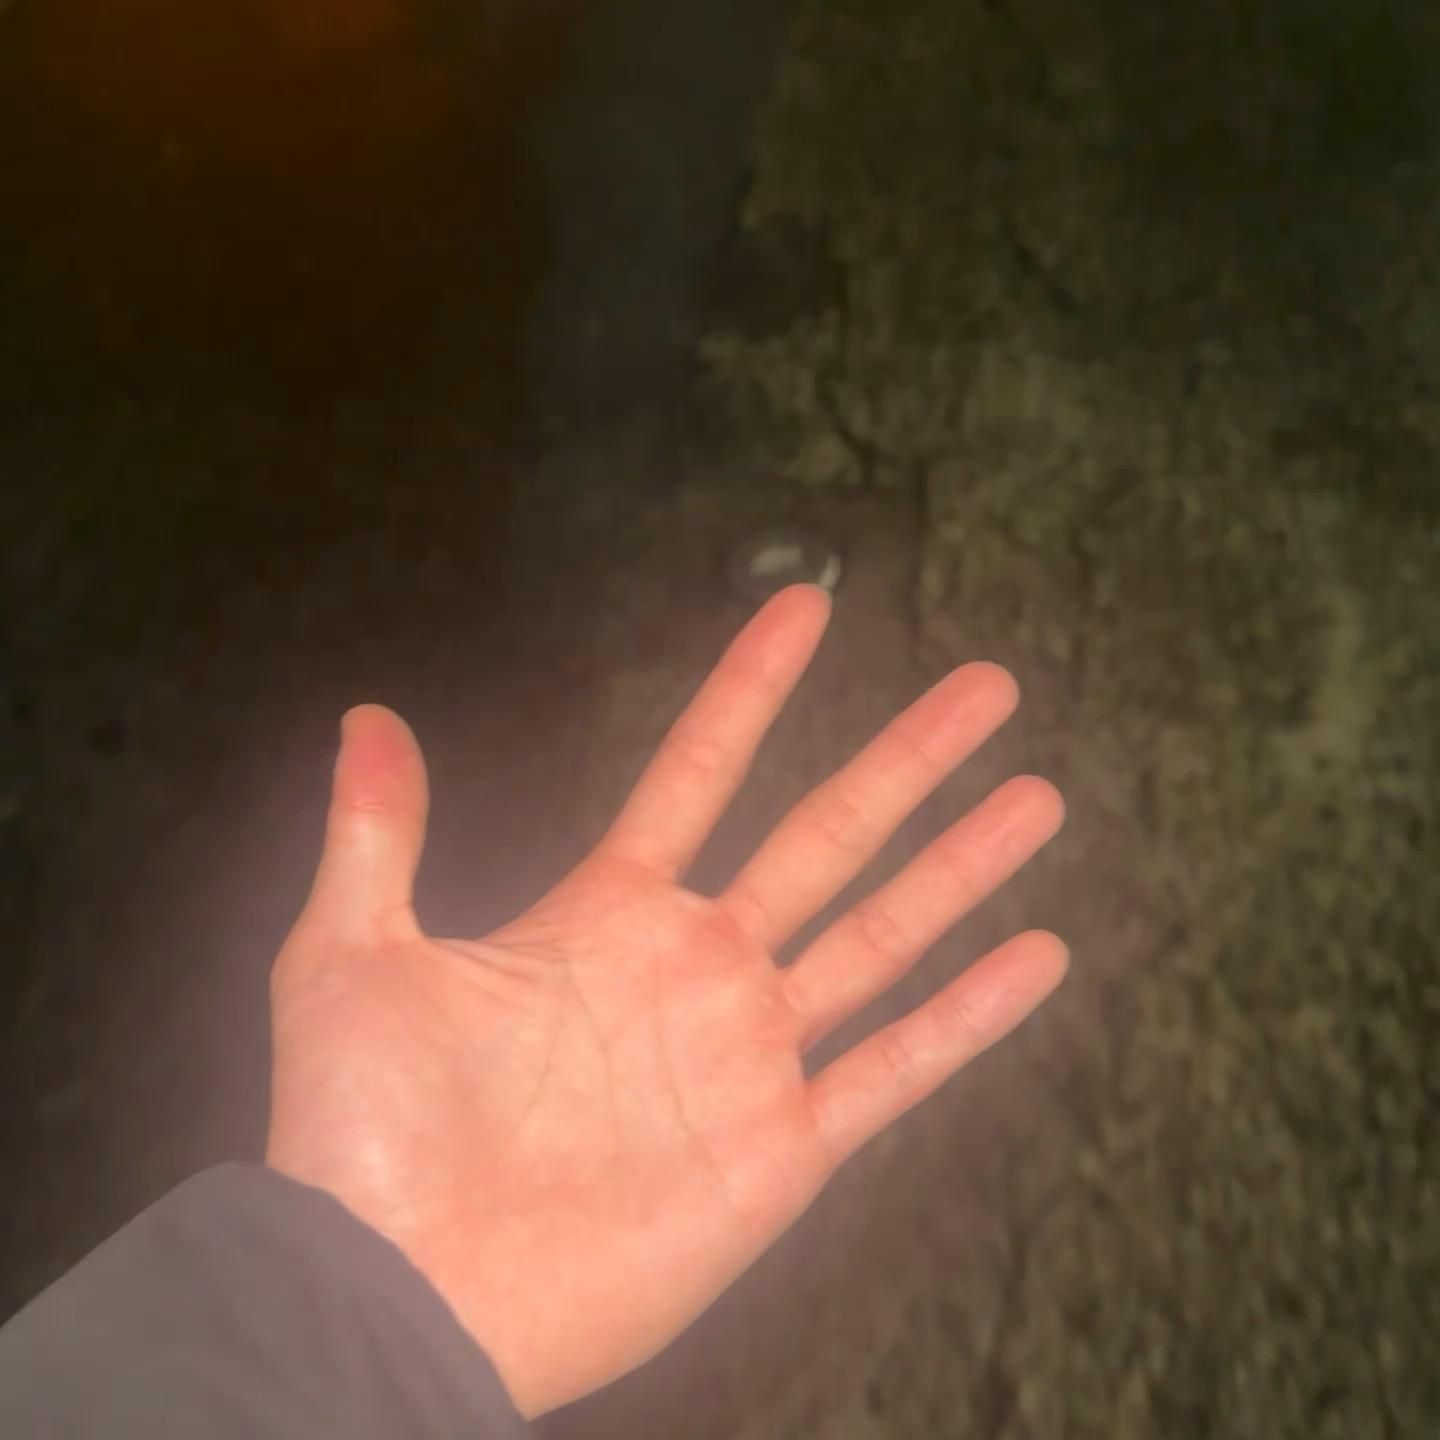without_gloves: (252, 479, 1150, 1328)
